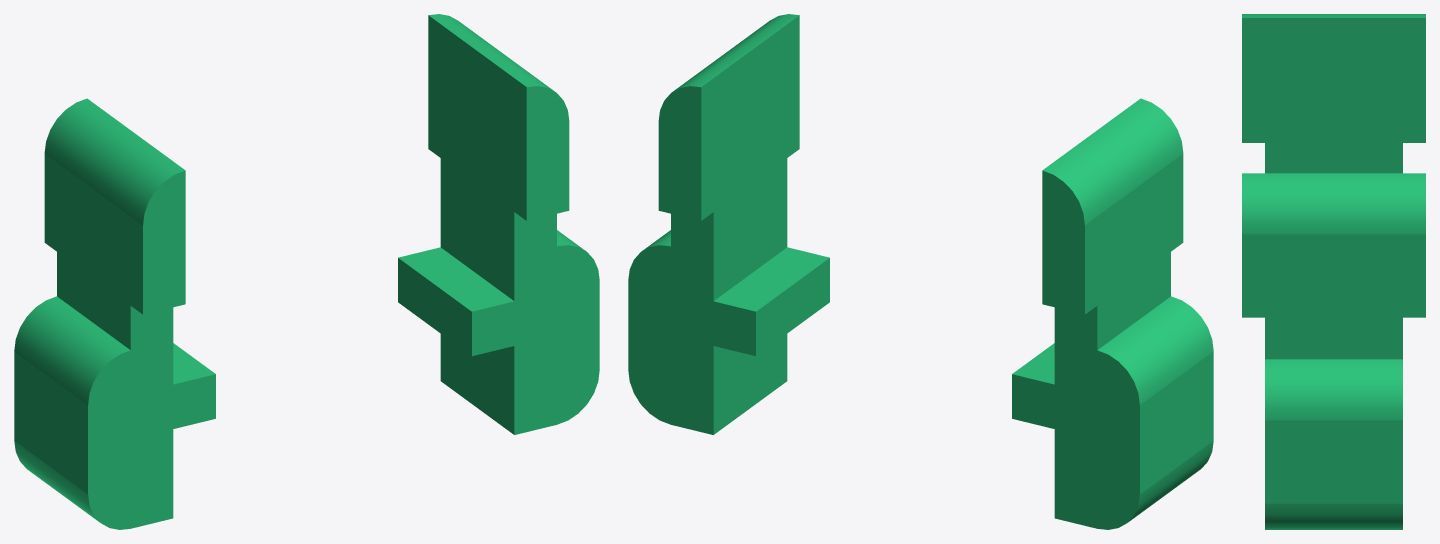
File: OrcArms.dae
The picture shows the model from 3 angles, left to right: view 1: azimuth 30°, elevation 25°; view 2: azimuth 150°, elevation 25°; view 3: azimuth 270°, elevation 25°; orthographic projection. The views are drawn at different scales.
Visible parts, largest first — view 1: generated; view 2: generated; view 3: generated.
Part boxes in pixels (x1,y1,x2,y2): generated: (14, 14, 599, 529); generated: (628, 14, 1213, 529); generated: (1242, 14, 1425, 529).
Bounding box in the file's own units: 12 × 8 × 4.
Materials: 1 (1 with a texture image).
